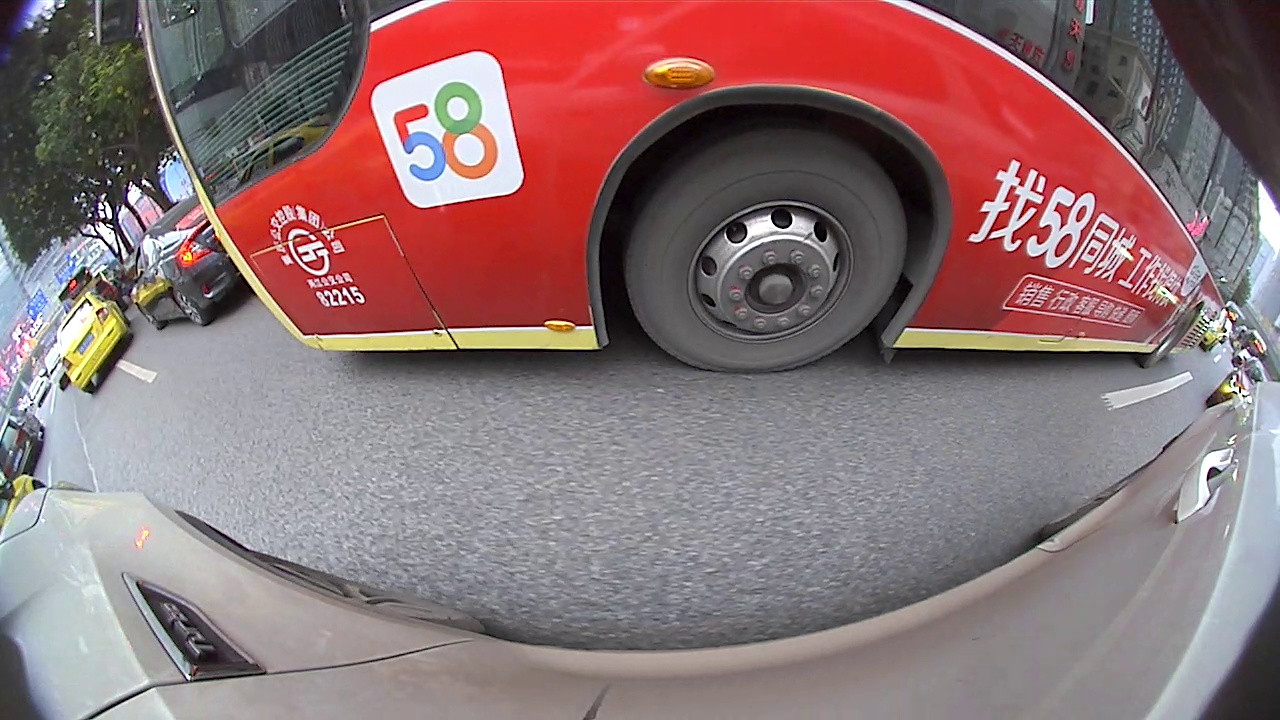bus: (230, 53, 395, 135)
car: (467, 48, 747, 143), (876, 112, 1008, 213), (158, 123, 259, 220), (743, 91, 851, 139)
front: (491, 102, 532, 140)
rear: (668, 110, 707, 143)
